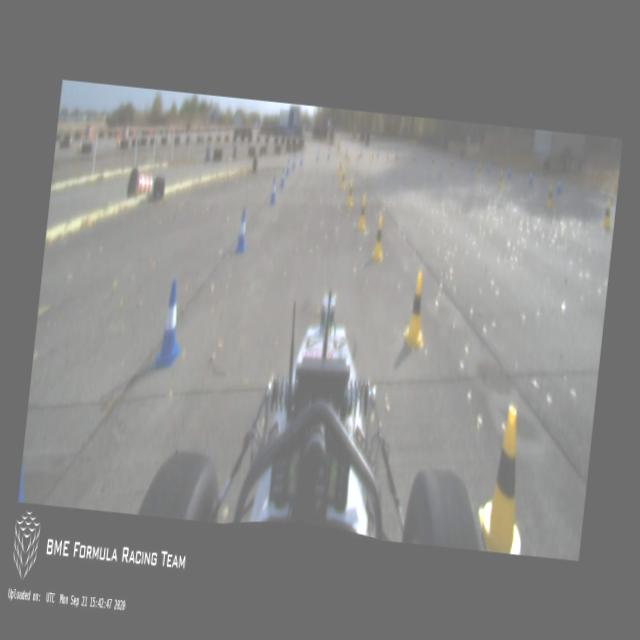blue_cone: (152, 279, 188, 371), (234, 208, 249, 254), (269, 177, 277, 204), (280, 167, 286, 187), (286, 158, 290, 177), (292, 153, 296, 169)
yellow_cone: (474, 405, 534, 554), (402, 270, 430, 348), (370, 214, 386, 260), (356, 195, 368, 230), (602, 198, 612, 228), (346, 179, 355, 207), (546, 185, 553, 208), (340, 169, 346, 189), (498, 171, 503, 188), (337, 159, 342, 175)
